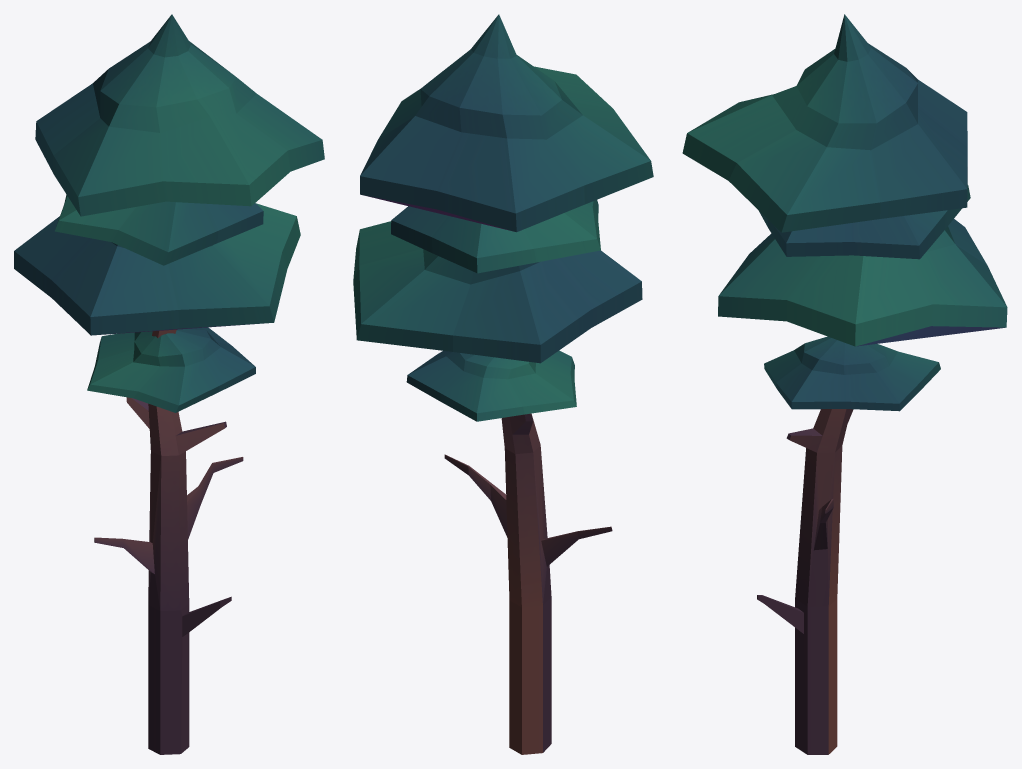
File: PineTree05.fbx
3 views of the same model, side by side, from view 1: azimuth 30°, elevation 25°; view 2: azimuth 150°, elevation 25°; view 3: azimuth 270°, elevation 25° (orthographic). The views are drawn at different scales.
Visible parts, largest first — view 1: TolTreeTrunk4; view 2: TolTreeTrunk4; view 3: TolTreeTrunk4.
Boxes of the visible parts, x1,y1,x2,y2 form: TolTreeTrunk4: [14, 14, 324, 754]; TolTreeTrunk4: [353, 14, 653, 754]; TolTreeTrunk4: [682, 14, 1007, 754].
Bounding box in the file's own units: 239 × 645 × 256.
